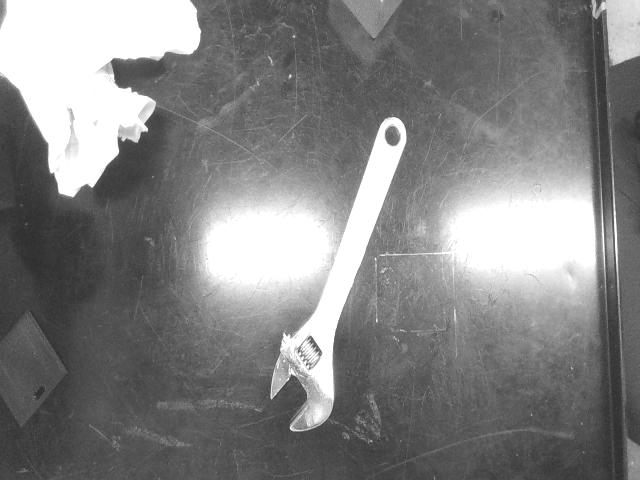Adjustable spanner: (270, 118, 406, 432)
